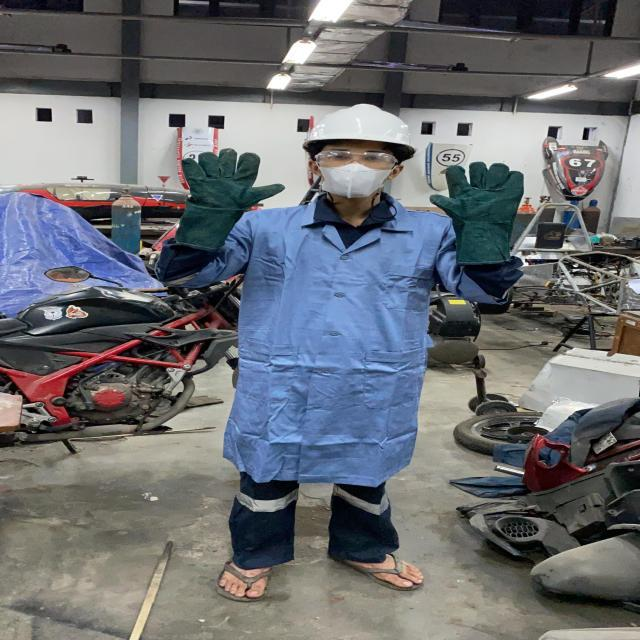glasses: (306, 148, 404, 170)
